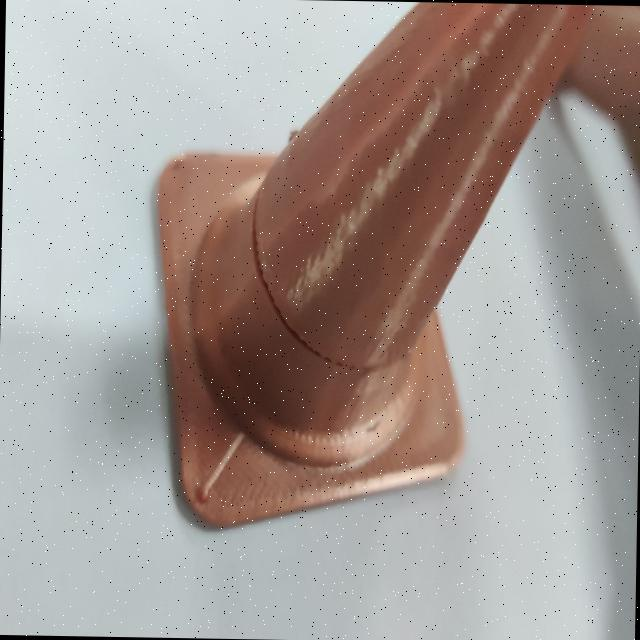cracks: (223, 228, 388, 392)
